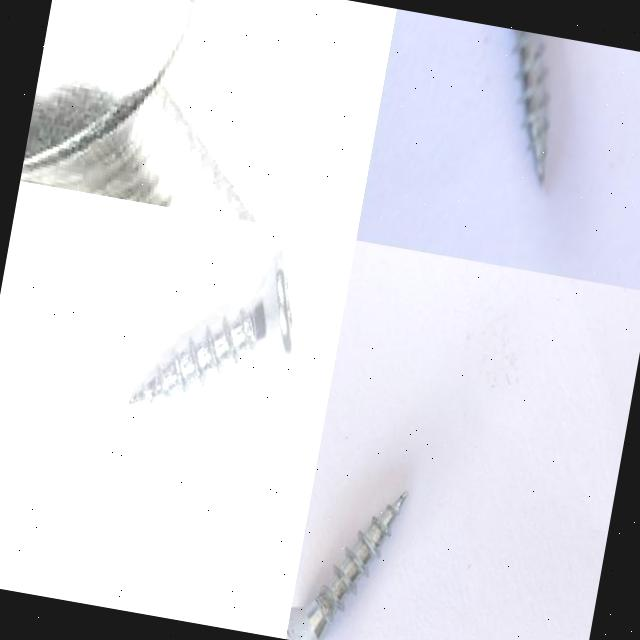Screw: (20, 0, 260, 223), (123, 217, 317, 431), (286, 490, 408, 640), (514, 29, 549, 184)
